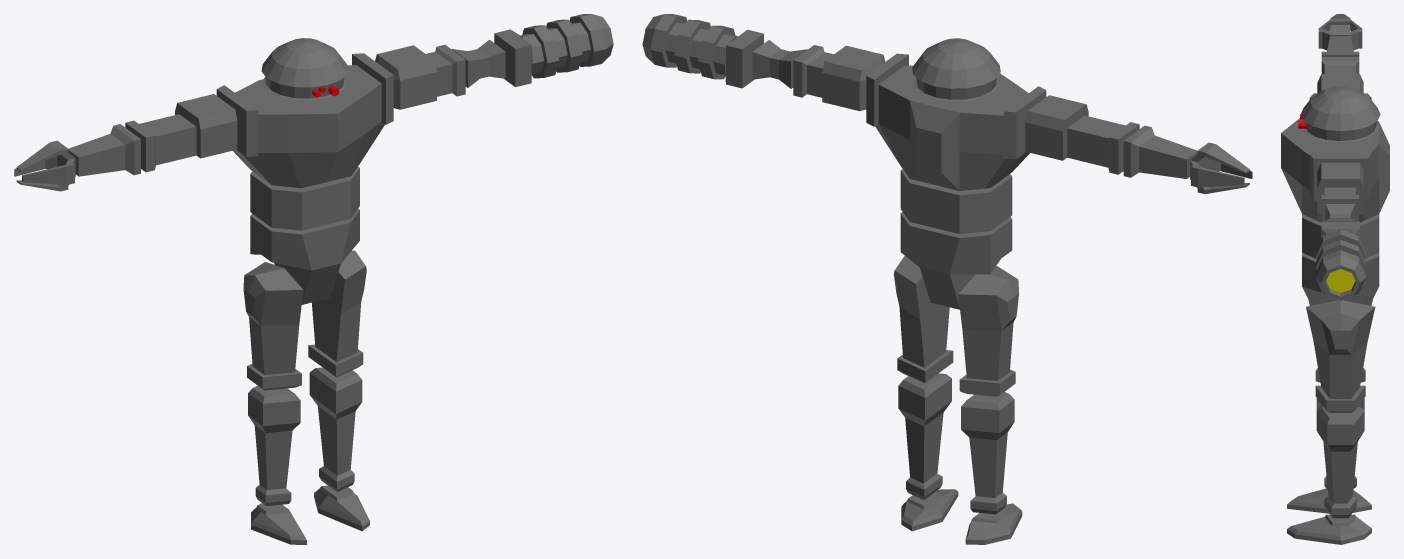
File: bot.fbx
3 views of the same model, side by side, from view 1: azimuth 30°, elevation 25°; view 2: azimuth 150°, elevation 25°; view 3: azimuth 270°, elevation 25° (orthographic). The views are drawn at different scales.
Visible parts, largest first — view 1: body, right_hips, left_gun, pelvis, right_arm, spine, left_hips, right_knee, left_knee, head, left_arm, right_elbow (+4 smaller); view 2: body, right_hips, pelvis, left_gun, right_arm, spine, left_hips, right_knee, left_knee, head, left_arm, right_elbow (+4 smaller); view 3: body, left_hips, left_knee, head, left_gun, left_arm, left_foot, pelvis, spine, right_arm, right_hand, right_foot (+3 smaller).
Part boxes in pixels (x1,y1,x2,y2): body: (216, 53, 393, 188); right_hips: (243, 262, 303, 390); left_gun: (494, 14, 613, 87); pelvis: (250, 209, 359, 304); right_arm: (125, 94, 237, 172); spine: (250, 167, 359, 230); left_hips: (308, 250, 366, 377); right_knee: (248, 385, 300, 505); left_knee: (309, 367, 362, 491); head: (261, 38, 348, 100); left_arm: (375, 45, 465, 109); right_elbow: (68, 124, 140, 176); body: (866, 53, 1046, 190); right_hips: (958, 266, 1019, 396); pelvis: (900, 212, 1012, 309); left_gun: (642, 14, 763, 88); right_arm: (1025, 95, 1139, 174); spine: (900, 169, 1012, 233); left_hips: (893, 256, 953, 383); right_knee: (961, 392, 1014, 514); left_knee: (898, 373, 951, 499); head: (912, 38, 1000, 101); left_arm: (793, 45, 885, 111); right_elbow: (1123, 125, 1197, 178); body: (1281, 93, 1389, 222); left_hips: (1306, 300, 1375, 412); left_knee: (1316, 407, 1364, 518); head: (1298, 86, 1380, 142); left_gun: (1315, 221, 1365, 300); left_arm: (1317, 162, 1363, 221); left_foot: (1287, 514, 1371, 544); pelvis: (1302, 252, 1379, 305); spine: (1302, 214, 1379, 258); right_arm: (1317, 57, 1363, 93); right_hand: (1318, 14, 1362, 50); right_foot: (1287, 488, 1371, 513).
Size of the model in its own units: 1589 by 1231 by 282.
